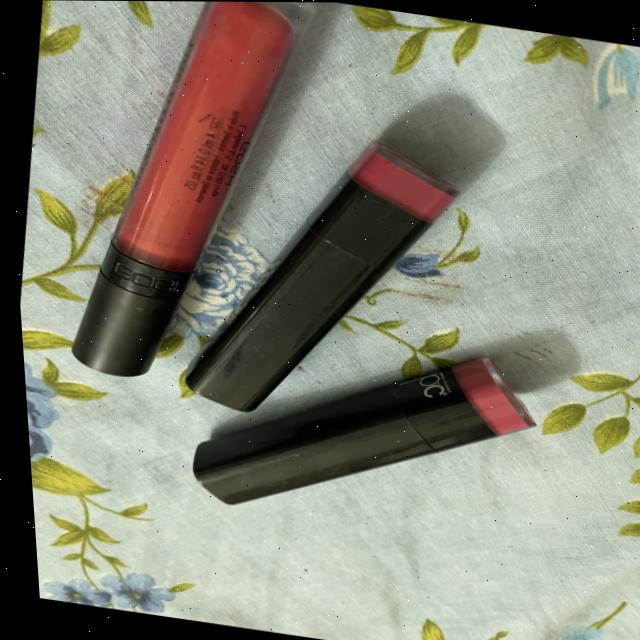lip gloss: (10, 0, 323, 419)
lip stick: (146, 116, 503, 455), (160, 311, 560, 569)
